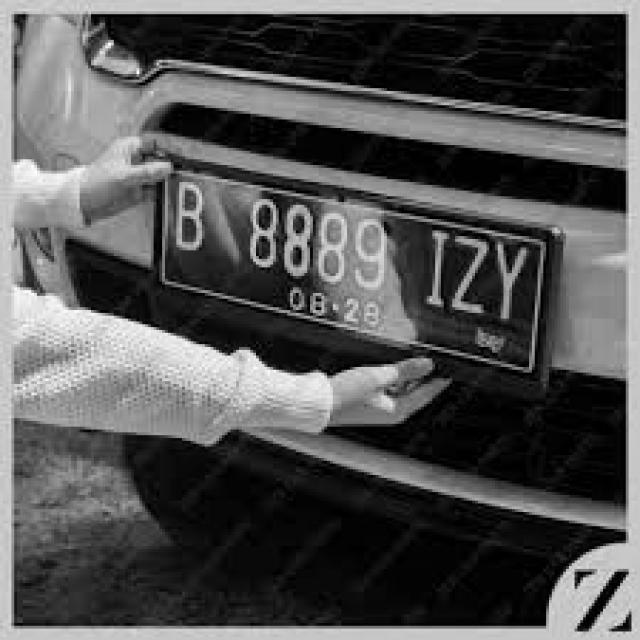license-plat: (144, 147, 583, 400)
